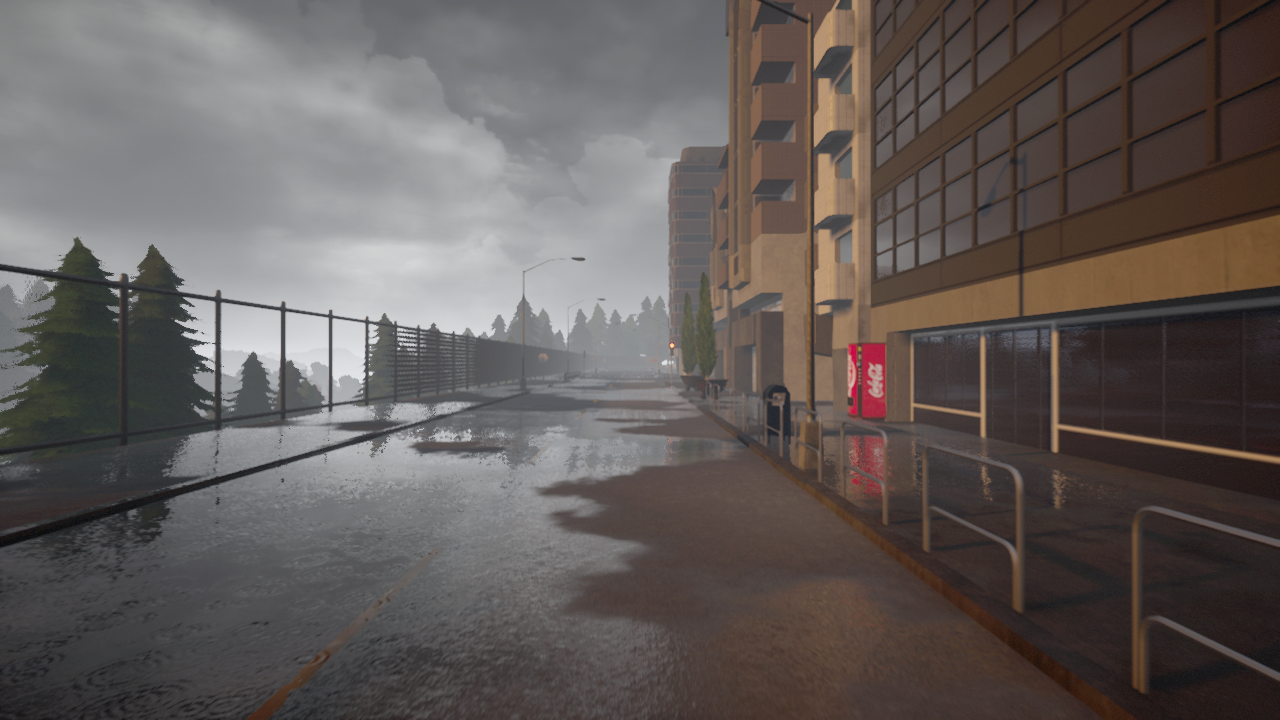red: (668, 342, 674, 356)
